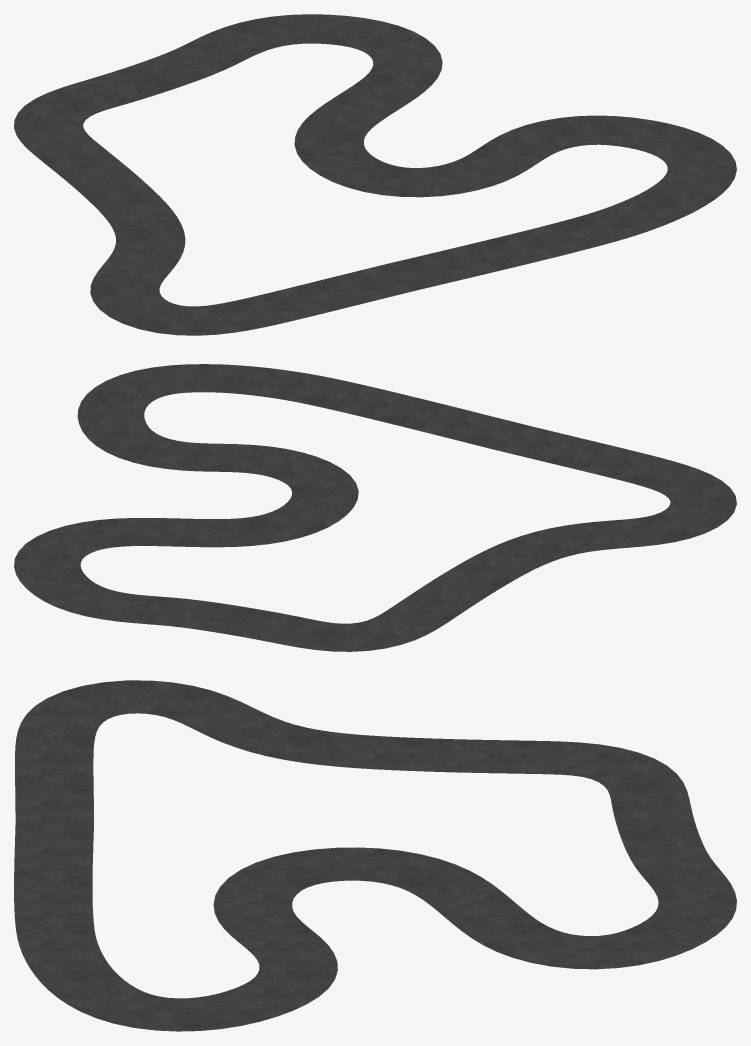
Rendered from China_track_road.dae.
The picture shows the model from 3 angles, top to bottom: view 1: azimuth 30°, elevation 25°; view 2: azimuth 150°, elevation 25°; view 3: azimuth 270°, elevation 25°; orthographic projection. The views are drawn at different scales.
Parts seen in each view (by area): view 1: road; view 2: road; view 3: road.
Part boxes in pixels (x1,y1,x2,y2): road: (14, 14, 736, 335); road: (14, 364, 736, 651); road: (14, 680, 736, 1031).
Size of the model in its own units: 6.99 by 6.08 by 1.53e-07.
Materials: 1 (1 with a texture image).
